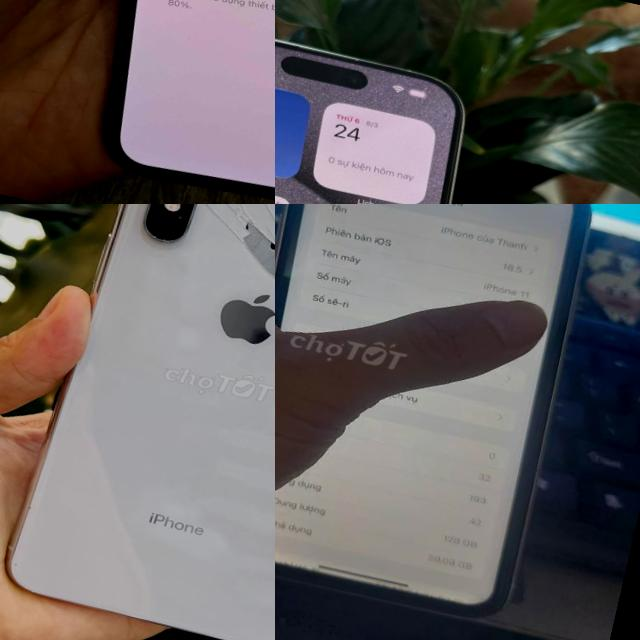gen_11: (275, 204, 611, 623), (44, 0, 275, 204)
gen_15: (275, 0, 521, 204)
gen_x_xs: (0, 204, 275, 640)
